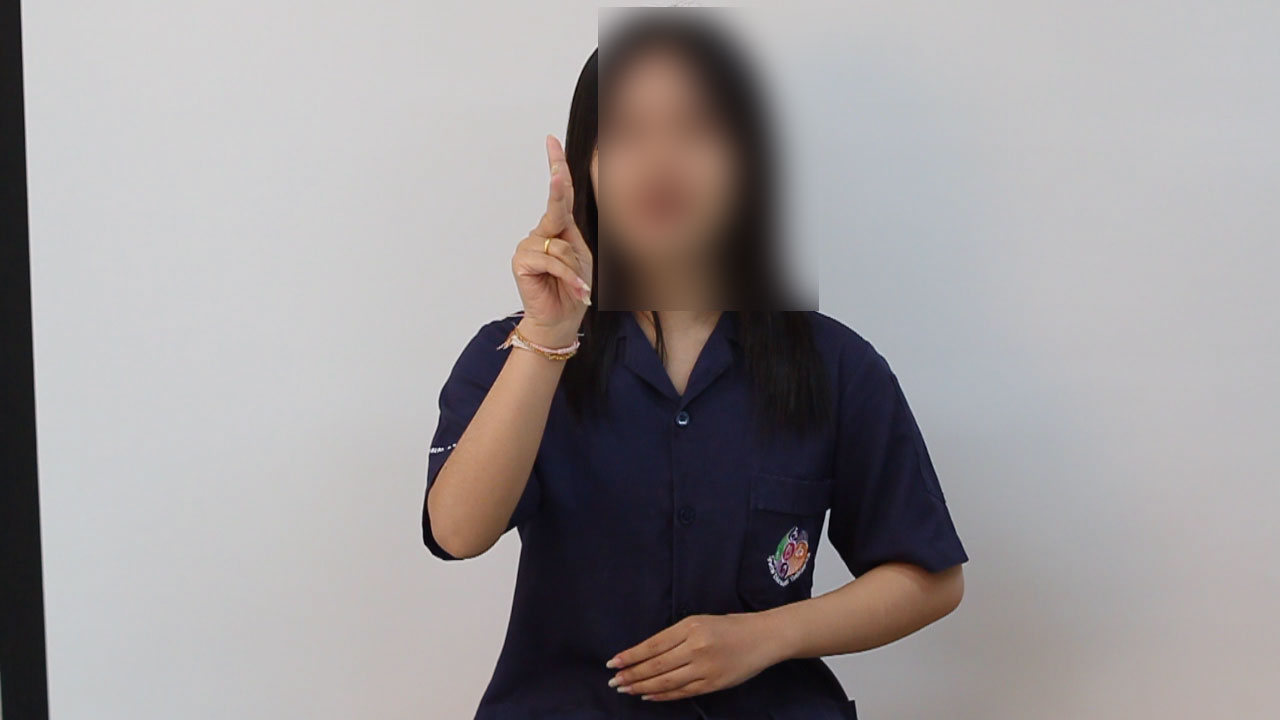ko: (442, 125, 621, 359)
